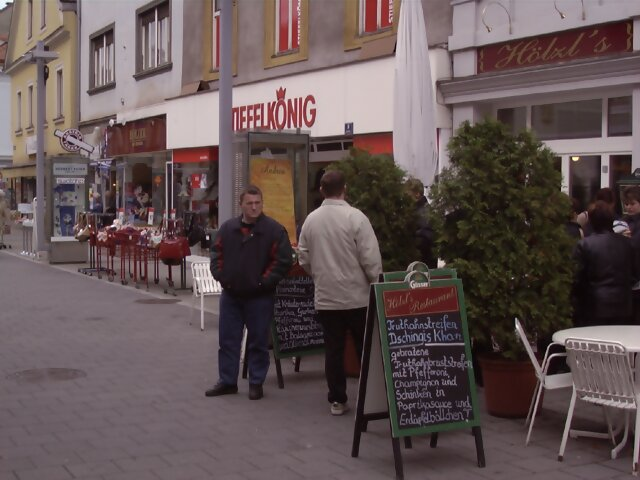person: (297, 167, 401, 419), (204, 184, 287, 400)
